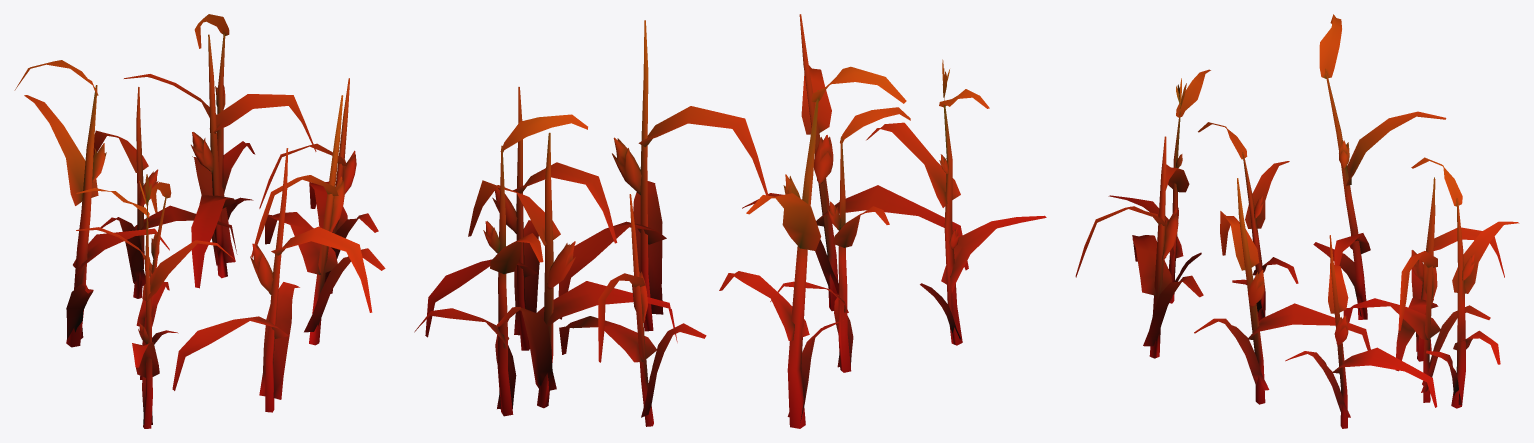
Rendered from SM_Corn_2.fbx.
3 renders of one model, left to right at view 1: azimuth 30°, elevation 25°; view 2: azimuth 150°, elevation 25°; view 3: azimuth 270°, elevation 25°, orthographic. The views are drawn at different scales.
Visible parts, largest first — view 1: SM_Corn_2; view 2: SM_Corn_2; view 3: SM_Corn_2.
Part boxes in pixels (<box>): SM_Corn_2: <box>14,14,385,428</box>; SM_Corn_2: <box>414,14,1046,428</box>; SM_Corn_2: <box>1075,14,1519,428</box>.
Bounding box in the file's own units: 1.34 × 1.08 × 1.55.
